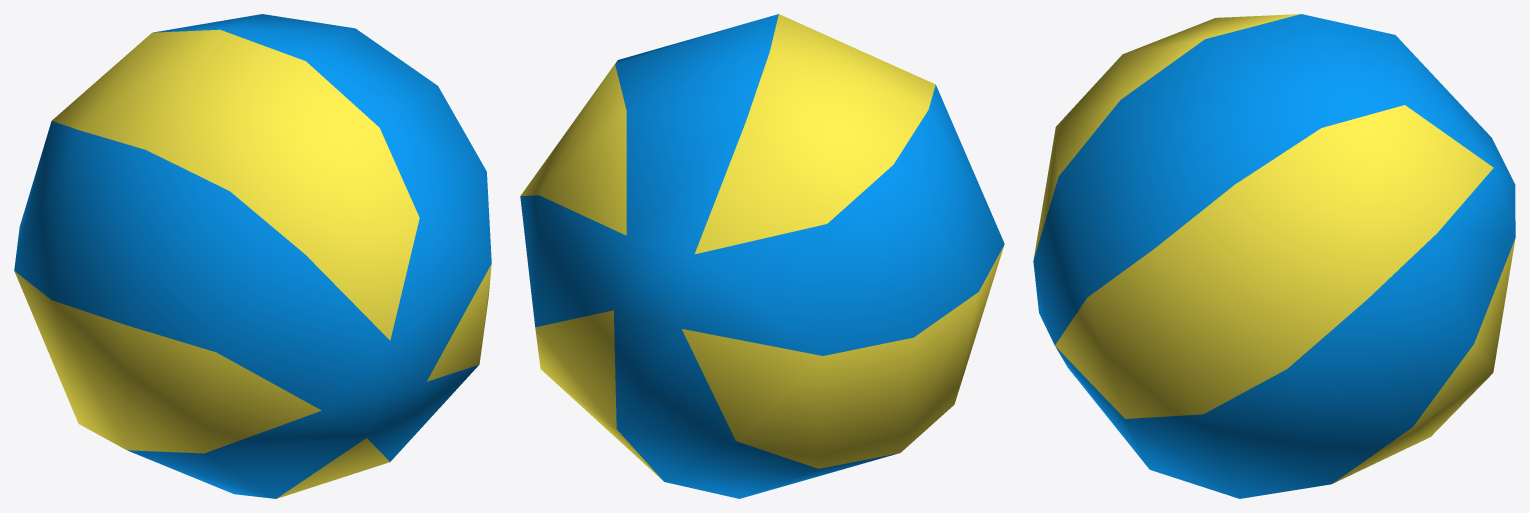
File: toy_008.glb
3 renders of one model, left to right at view 1: azimuth 30°, elevation 25°; view 2: azimuth 150°, elevation 25°; view 3: azimuth 270°, elevation 25°, orthographic. The views are drawn at different scales.
Visible parts, largest first — view 1: toy_008; view 2: toy_008; view 3: toy_008.
Boxes of the visible parts, bbox=[...] form: toy_008: bbox=[14, 14, 491, 498]; toy_008: bbox=[520, 14, 1004, 498]; toy_008: bbox=[1033, 14, 1515, 498].
Size of the model in its own units: 0.2674 by 0.263 by 0.2571.
Materials: 1 (1 with a texture image).
